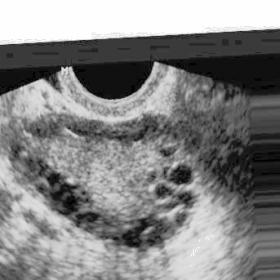PCOS: (119, 218, 152, 250), (148, 219, 165, 252), (49, 181, 76, 201), (170, 164, 194, 186), (74, 210, 100, 227), (171, 209, 192, 227), (158, 144, 179, 160), (63, 196, 84, 212), (45, 170, 63, 188), (180, 190, 196, 208), (154, 183, 171, 199), (148, 171, 159, 184)
